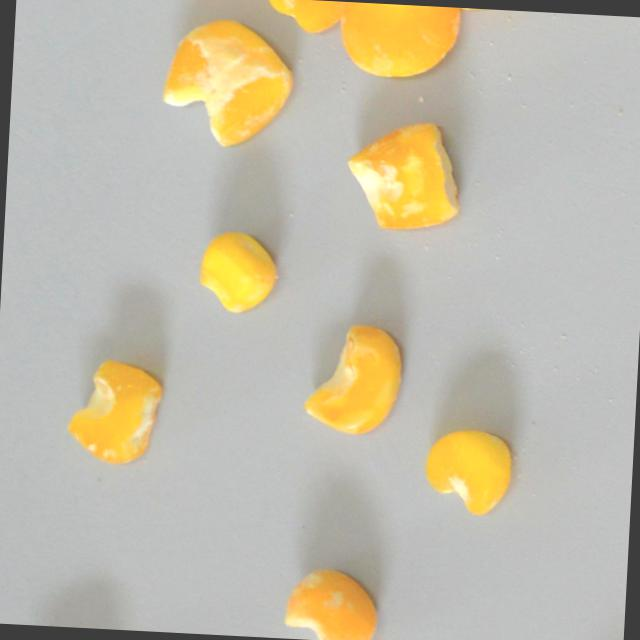no_canjicado: (423, 424, 515, 517), (197, 227, 280, 315)
pelicula: (159, 13, 297, 147), (341, 117, 464, 233), (300, 320, 406, 434), (63, 355, 166, 466), (337, 1, 463, 79), (282, 566, 381, 640), (253, 0, 352, 34)
